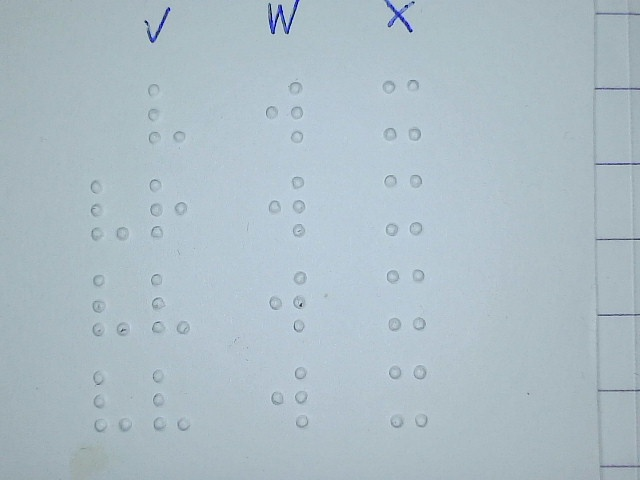V: (146, 80, 188, 147), (89, 177, 131, 244), (150, 365, 192, 432), (149, 270, 191, 337), (91, 367, 133, 434)
W: (264, 78, 306, 145), (266, 172, 308, 239), (266, 268, 308, 335), (268, 363, 310, 430)
X: (380, 75, 422, 142), (382, 170, 424, 237), (385, 266, 427, 333), (387, 361, 429, 428)
